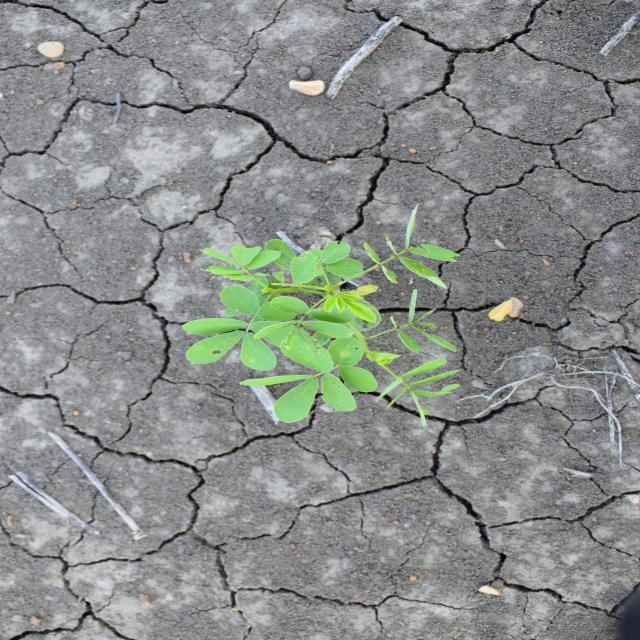Sicklepod: (177, 202, 466, 425)
